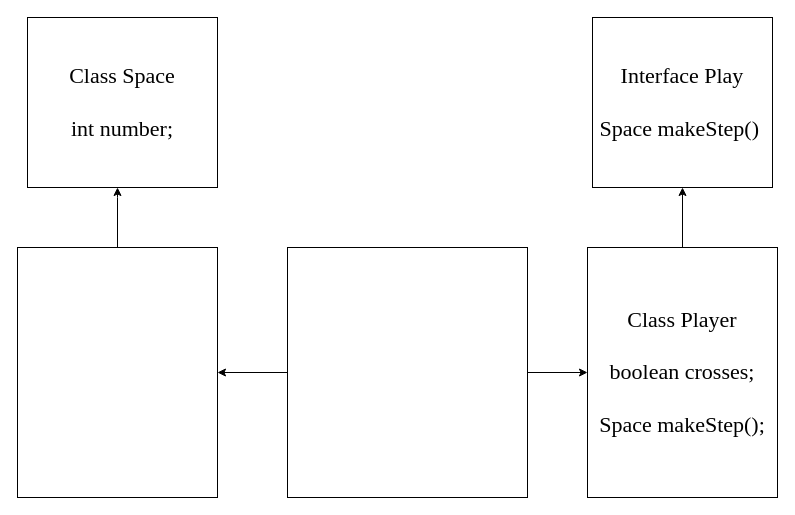
Some shapes in this 795 by 515 pixel diagram are drawn without their labels. The box of each missing label's shape, as (x1, y1, x2, y2) in pixels:
Class Field List<Space> spaces: (16, 246, 218, 498)
Class Gameplay Fiels field List<Player> players void play();: (286, 246, 528, 498)
